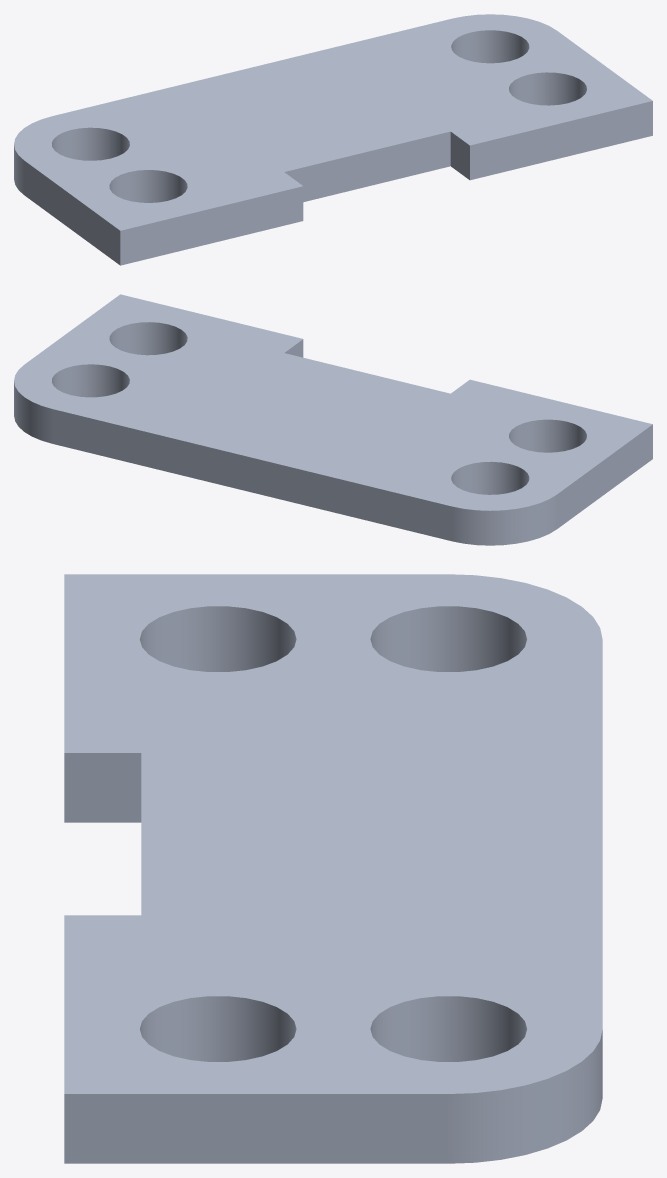
File: Support_Bracket_-_Base.gltf
3 views of the same model, one above another, from view 1: azimuth 30°, elevation 25°; view 2: azimuth 150°, elevation 25°; view 3: azimuth 270°, elevation 25° (orthographic). The views are drawn at different scales.
Visible parts, largest first — view 1: Support Bracket - Base; view 2: Support Bracket - Base; view 3: Support Bracket - Base.
Part boxes in pixels (x1=…): Support Bracket - Base: x1=14, y1=14, x2=652, y2=265; Support Bracket - Base: x1=14, y1=294, x2=652, y2=545; Support Bracket - Base: x1=64, y1=574, x2=602, y2=1163.
Bounding box in the file's own units: 0.1016 × 0.00635 × 0.0445.
